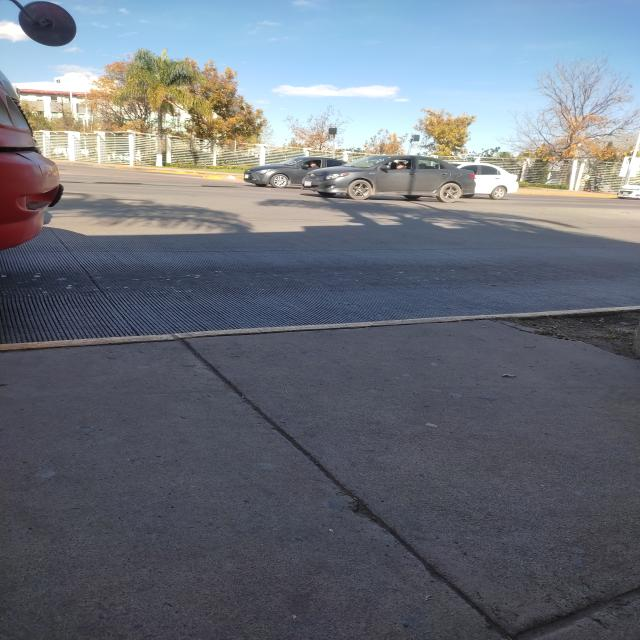Auto: (299, 143, 480, 207), (238, 149, 355, 194), (441, 157, 535, 205), (617, 175, 640, 204)
Autobus: (1, 0, 130, 257)
